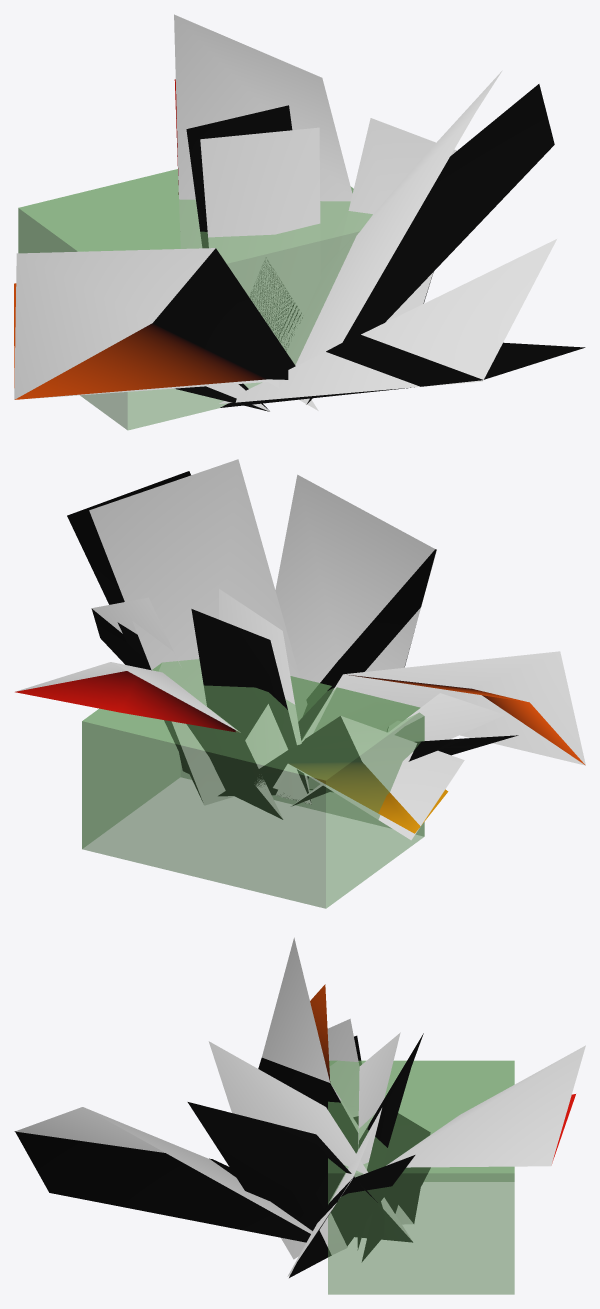
The model's file is lush_ferns_01_b.dae.
3 views of the same model, one above another, from view 1: azimuth 30°, elevation 25°; view 2: azimuth 150°, elevation 25°; view 3: azimuth 270°, elevation 25° (orthographic). The views are drawn at different scales.
Visible parts, largest first — view 1: fern_large_02_a150, fern_large_02_a200, Colmesh-1; view 2: fern_large_02_a150, Colmesh-1, fern_large_02_a200; view 3: fern_large_02_a200, fern_large_02_a150, Colmesh-1.
Part boxes in pixels (x1,y1,x2,y2): fern_large_02_a150: (14,14,556,411); fern_large_02_a200: (14,79,585,411); Colmesh-1: (18,169,372,430); fern_large_02_a150: (15,459,585,840); Colmesh-1: (82,659,424,908); fern_large_02_a200: (15,471,584,833); fern_large_02_a200: (15,984,575,1277); fern_large_02_a150: (14,937,585,1276); Colmesh-1: (328,1060,514,1294).
Size of the model in its own units: 2.78 by 2.93 by 1.49.
